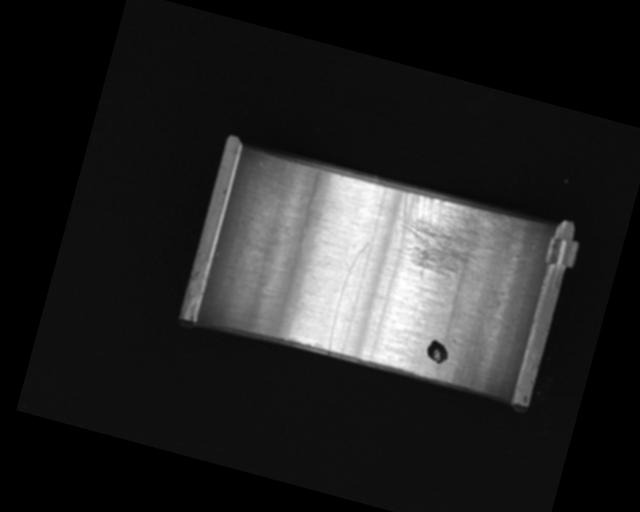blot: (422, 336, 453, 367)
nick: (324, 236, 371, 357)
scratch: (383, 188, 512, 298)
